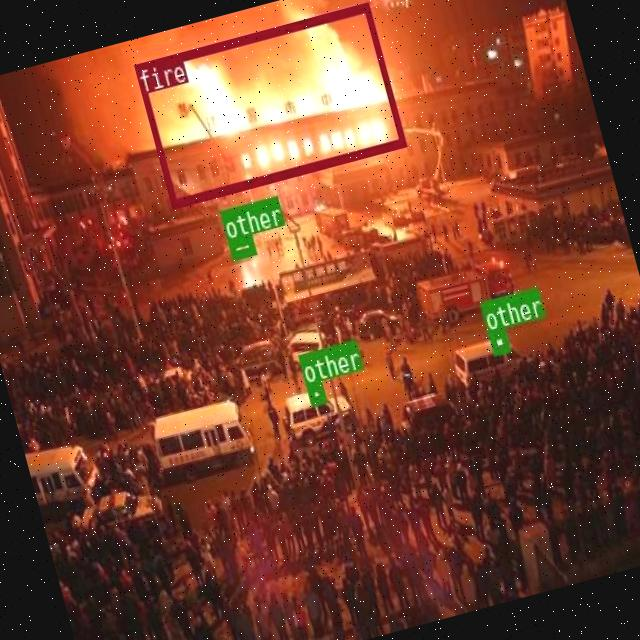fire: (132, 1, 406, 207)
